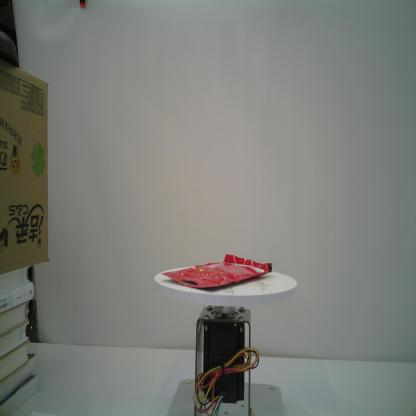Candy: (161, 253, 273, 288)
